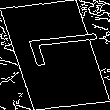L_E: (8, 35, 102, 75)
